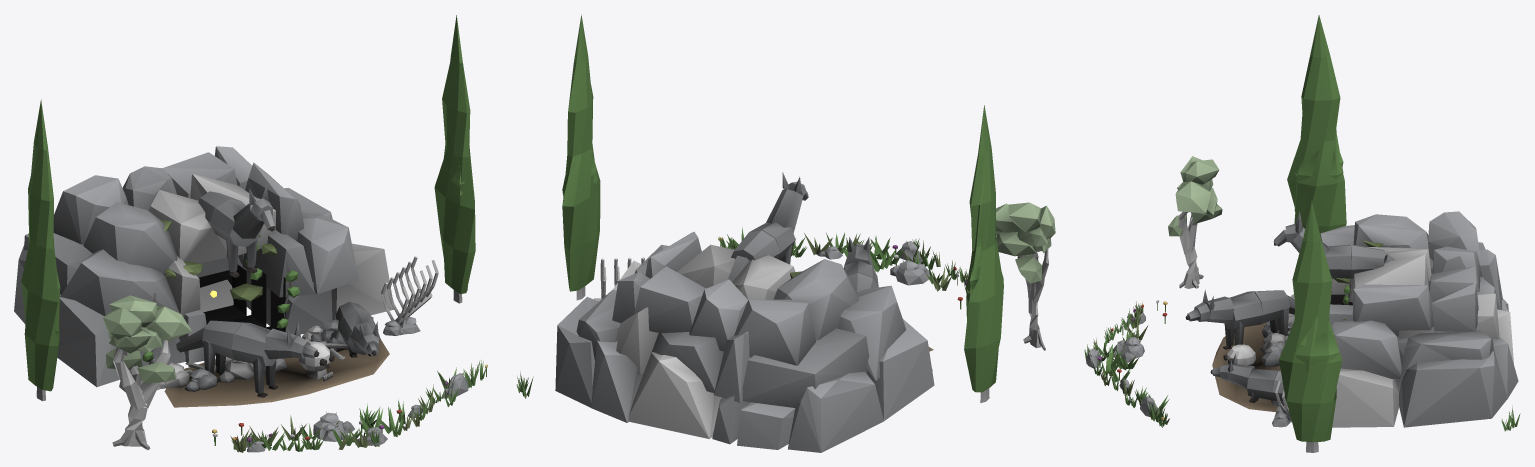
File: wolf-den-l1.glb
3 renders of one model, left to right at view 1: azimuth 30°, elevation 25°; view 2: azimuth 150°, elevation 25°; view 3: azimuth 270°, elevation 25°, orthographic. The views are drawn at different scales.
Visible parts, largest first — view 1: wolf-den-l1; view 2: wolf-den-l1; view 3: wolf-den-l1.
Part boxes in pixels (<box>): wolf-den-l1: <box>14,15,487,452</box>; wolf-den-l1: <box>516,14,1055,452</box>; wolf-den-l1: <box>1084,15,1520,452</box>.
Size of the model in its own units: 1.53 by 1.02 by 1.52.
